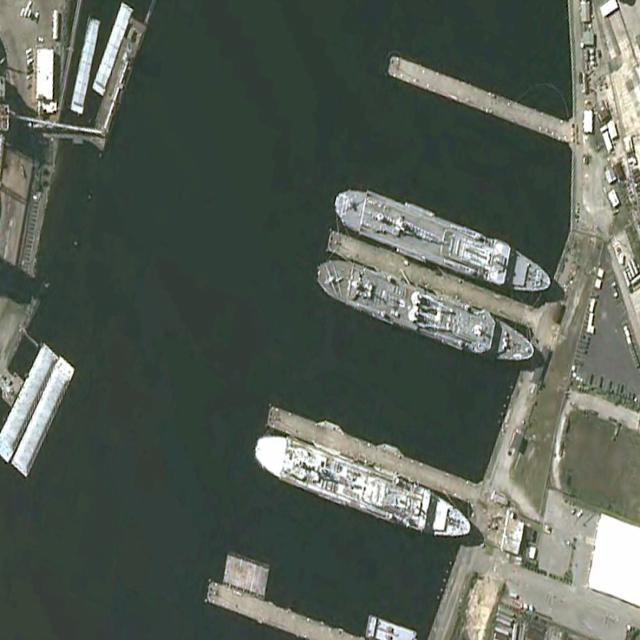Other Ship: (309, 247, 539, 379), (330, 175, 556, 308), (250, 421, 475, 553)
